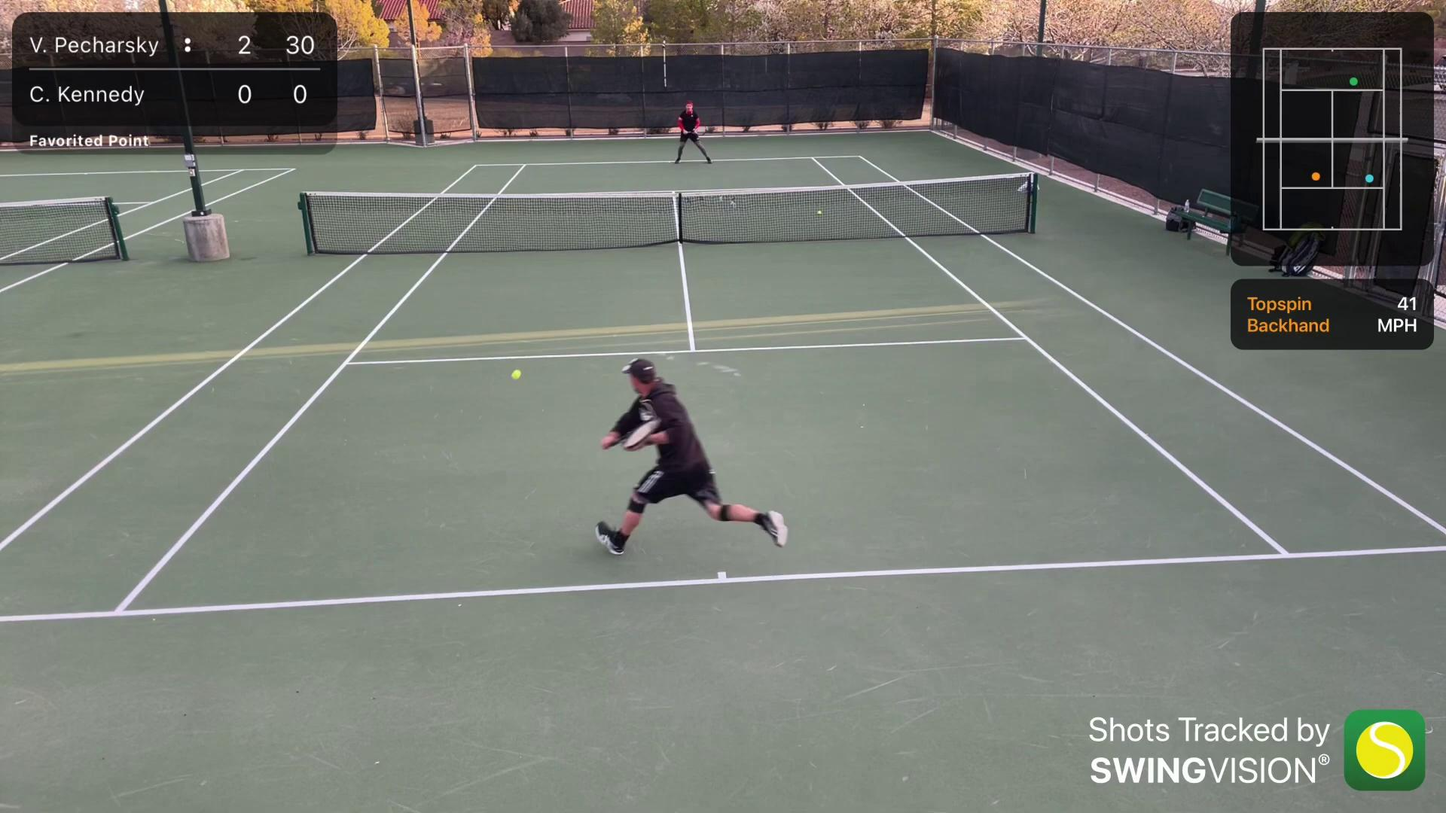ball: (507, 366, 526, 384), (815, 209, 824, 216)
